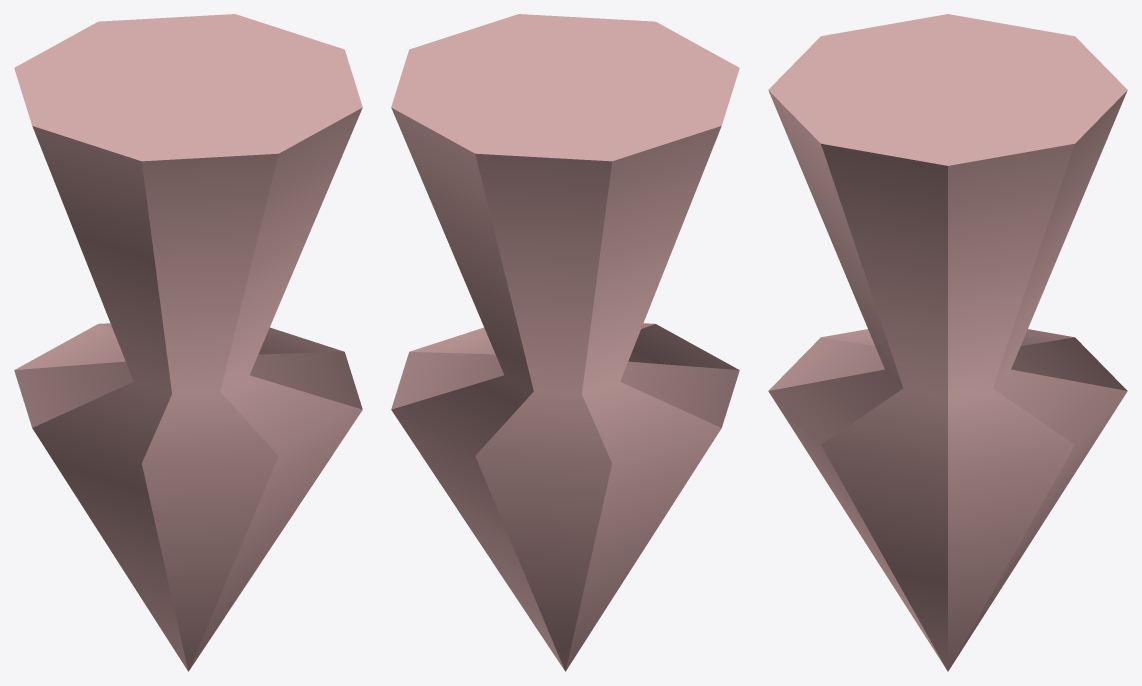
File: Asset_Pointer.fbx
The picture shows the model from 3 angles, left to right: view 1: azimuth 30°, elevation 25°; view 2: azimuth 150°, elevation 25°; view 3: azimuth 270°, elevation 25°; orthographic projection.
Parts seen in each view (by area): view 1: pCylinder1; view 2: pCylinder1; view 3: pCylinder1.
Part boxes in pixels (left/top/right/bottom): pCylinder1: left=14, top=14, right=362, bottom=671; pCylinder1: left=391, top=14, right=739, bottom=671; pCylinder1: left=768, top=14, right=1127, bottom=671.
Size of the model in its own units: 8.75 by 15.63 by 8.75.
